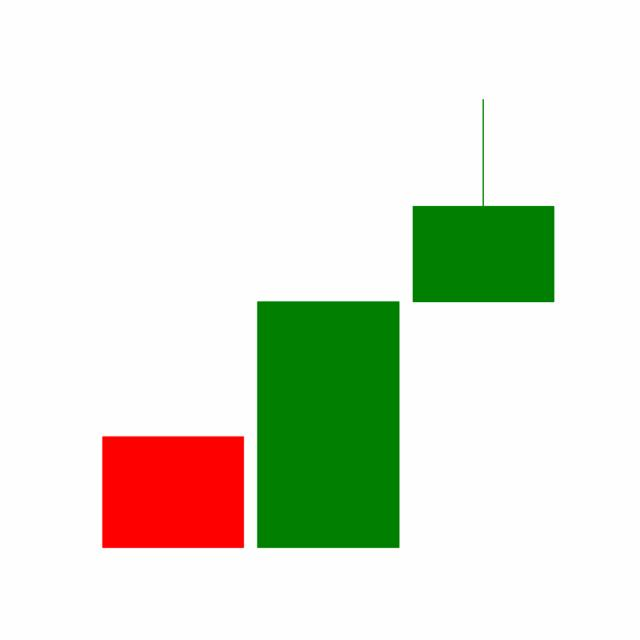Marubozu: (249, 298, 406, 550)
